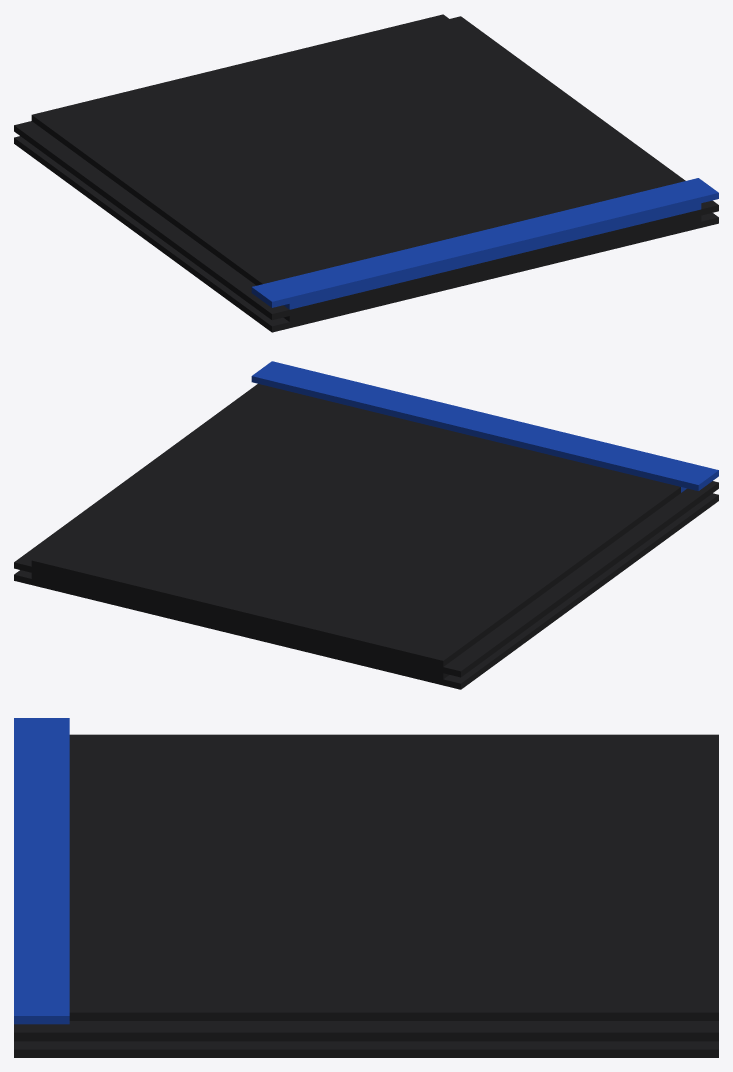
The model's file is sheet_neoprene.glb.
3 views of the same model, one above another, from view 1: azimuth 30°, elevation 25°; view 2: azimuth 150°, elevation 25°; view 3: azimuth 270°, elevation 25° (orthographic). The views are drawn at different scales.
Visible parts, largest first — view 1: sheet_neoprene:compound; view 2: sheet_neoprene:compound; view 3: sheet_neoprene:compound.
Part boxes in pixels (x1,y1,x2,y2): sheet_neoprene:compound: (14,14,718,332); sheet_neoprene:compound: (14,361,718,689); sheet_neoprene:compound: (14,718,718,1057).
Bounding box in the file's own units: 0.152 × 0.01 × 0.152.
